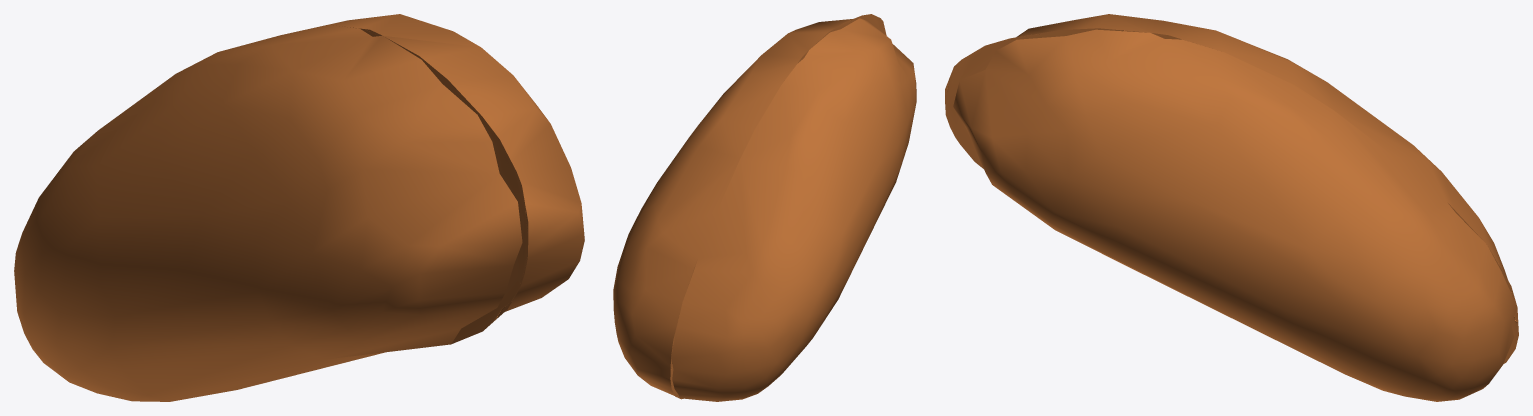
The model's file is Epiphysis.glb.
3 renders of one model, left to right at view 1: azimuth 30°, elevation 25°; view 2: azimuth 150°, elevation 25°; view 3: azimuth 270°, elevation 25°, orthographic. The views are drawn at different scales.
Visible parts, largest first — view 1: Epiphysis_grp1.100; view 2: Epiphysis_grp1.100; view 3: Epiphysis_grp1.100.
Boxes of the visible parts, x1=… form: Epiphysis_grp1.100: x1=14, y1=14, x2=584, y2=401; Epiphysis_grp1.100: x1=613, y1=14, x2=916, y2=401; Epiphysis_grp1.100: x1=945, y1=14, x2=1518, y2=401.
Size of the model in its own units: 0.0058 by 0.00748 by 0.0111.
